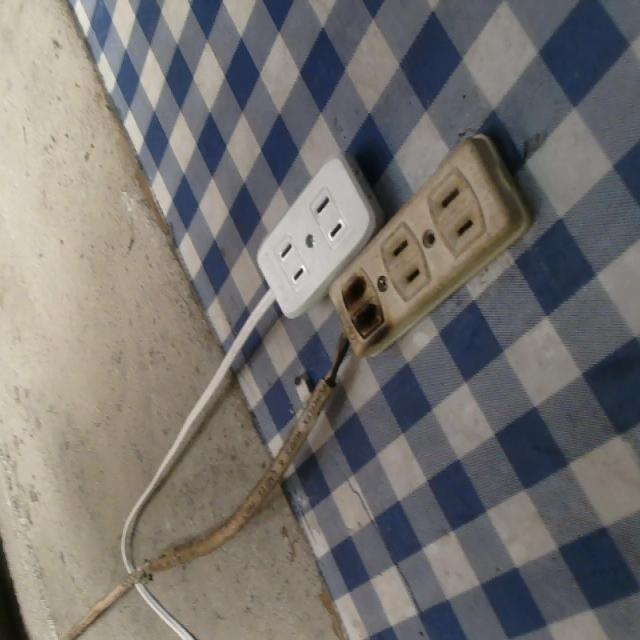-: (328, 257, 390, 356)
